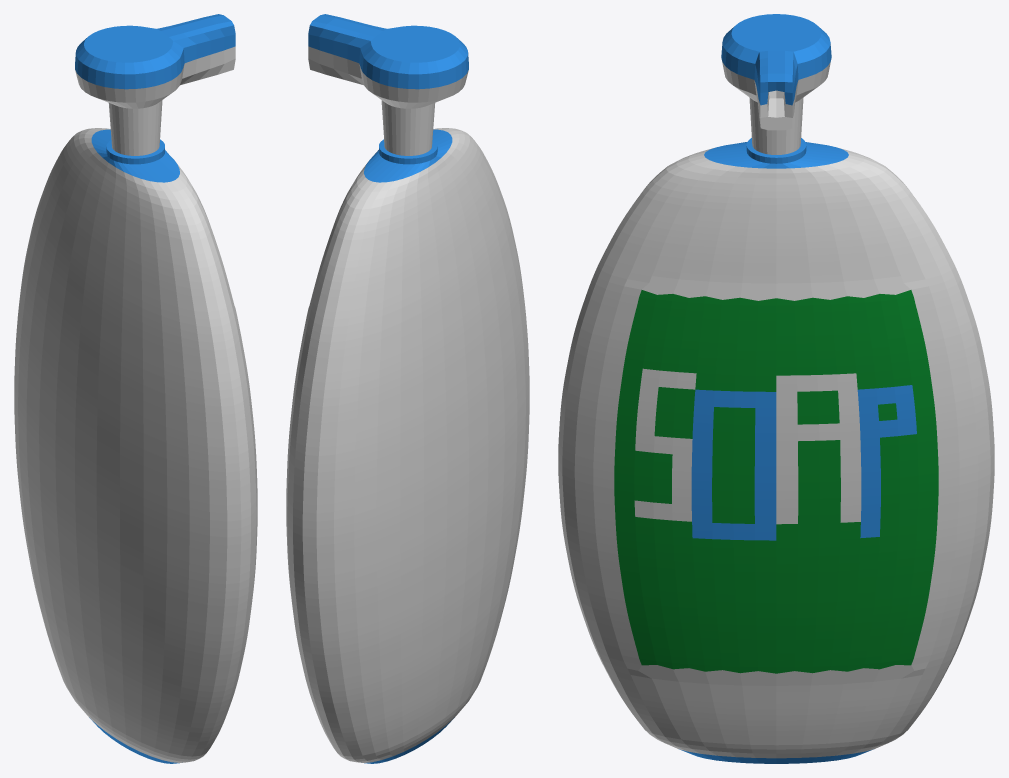
File: soap dispenser.fbx
3 views of the same model, side by side, from view 1: azimuth 30°, elevation 25°; view 2: azimuth 150°, elevation 25°; view 3: azimuth 270°, elevation 25° (orthographic). The views are drawn at different scales.
Visible parts, largest first — view 1: Sphere; view 2: Sphere; view 3: Sphere.
Part boxes in pixels (<box>): Sphere: <box>14,14,257,763</box>; Sphere: <box>286,14,529,763</box>; Sphere: <box>558,14,994,763</box>.
Bounding box in the file's own units: 6.66 × 28.8 × 15.9.
